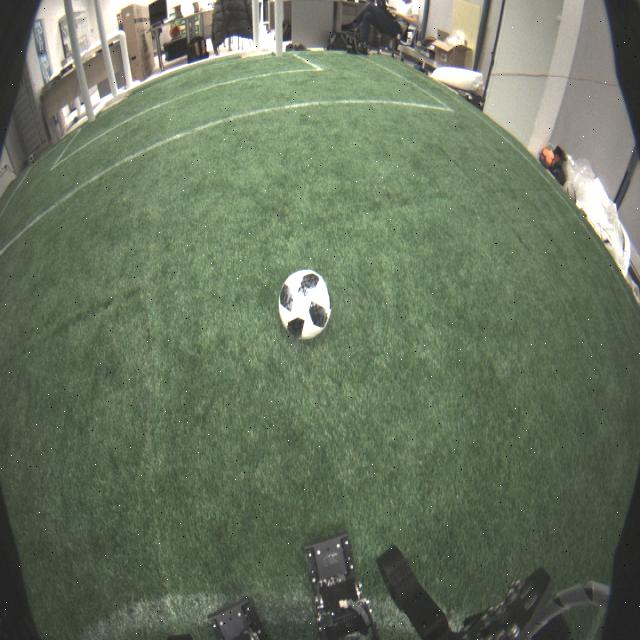ball: (277, 268, 334, 341)
goalpost: (58, 0, 97, 124), (272, 0, 285, 58)
